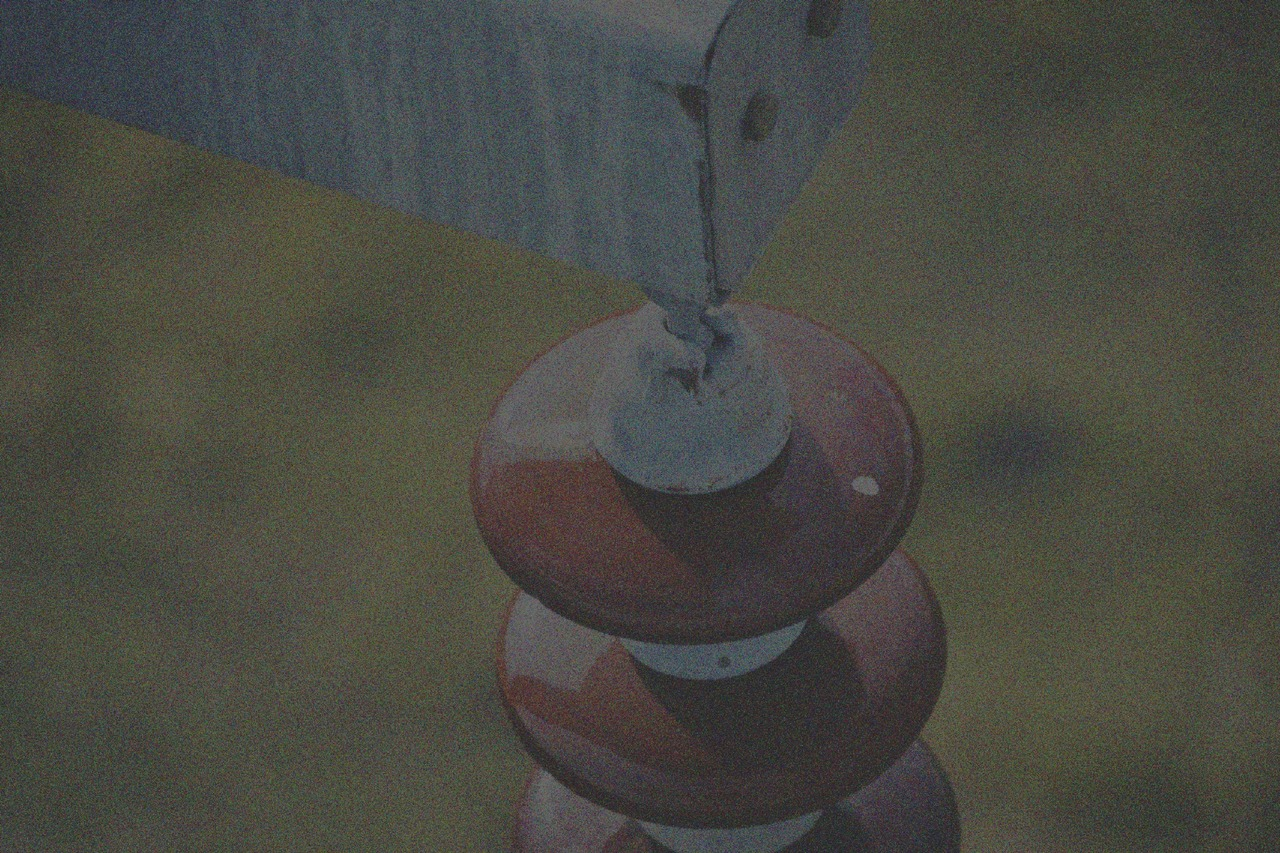Flashover damage: (464, 301, 929, 647)
No issues: (489, 540, 947, 829)
String: (454, 282, 971, 853)
